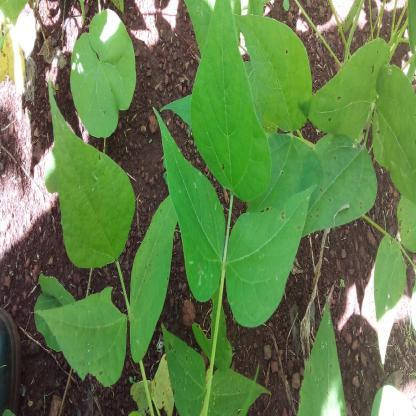Beans_Angular_LeafSpot: (183, 0, 272, 191), (225, 186, 321, 330), (300, 37, 391, 145), (34, 286, 129, 384)
